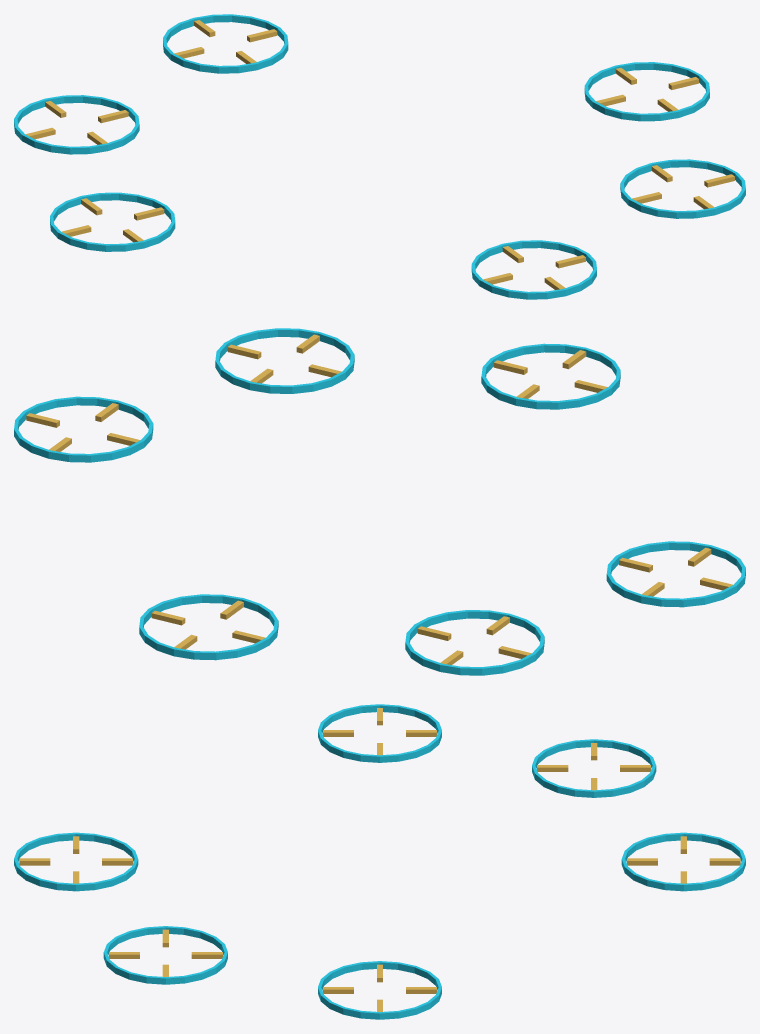
Rendered from 32_L74_WaferOverlayAlignmentMarks.fbx.
3 renders of one model, top to bottom at view 1: azimuth 30°, elevation 25°; view 2: azimuth 150°, elevation 25°; view 3: azimuth 270°, elevation 25°, orthographic. The views are drawn at different scales.
Visible parts, largest first — view 1: WaferOverlayAlignmentMarks; view 2: WaferOverlayAlignmentMarks; view 3: WaferOverlayAlignmentMarks.
Boxes of the visible parts, x1,y1,x2,y2 form: WaferOverlayAlignmentMarks: (14,14,745,299); WaferOverlayAlignmentMarks: (14,328,745,675); WaferOverlayAlignmentMarks: (14,704,745,1019).
Bounding box in the file's own units: 106 × 1 × 106.
